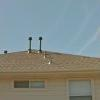Chimney: (21, 30, 45, 54)
